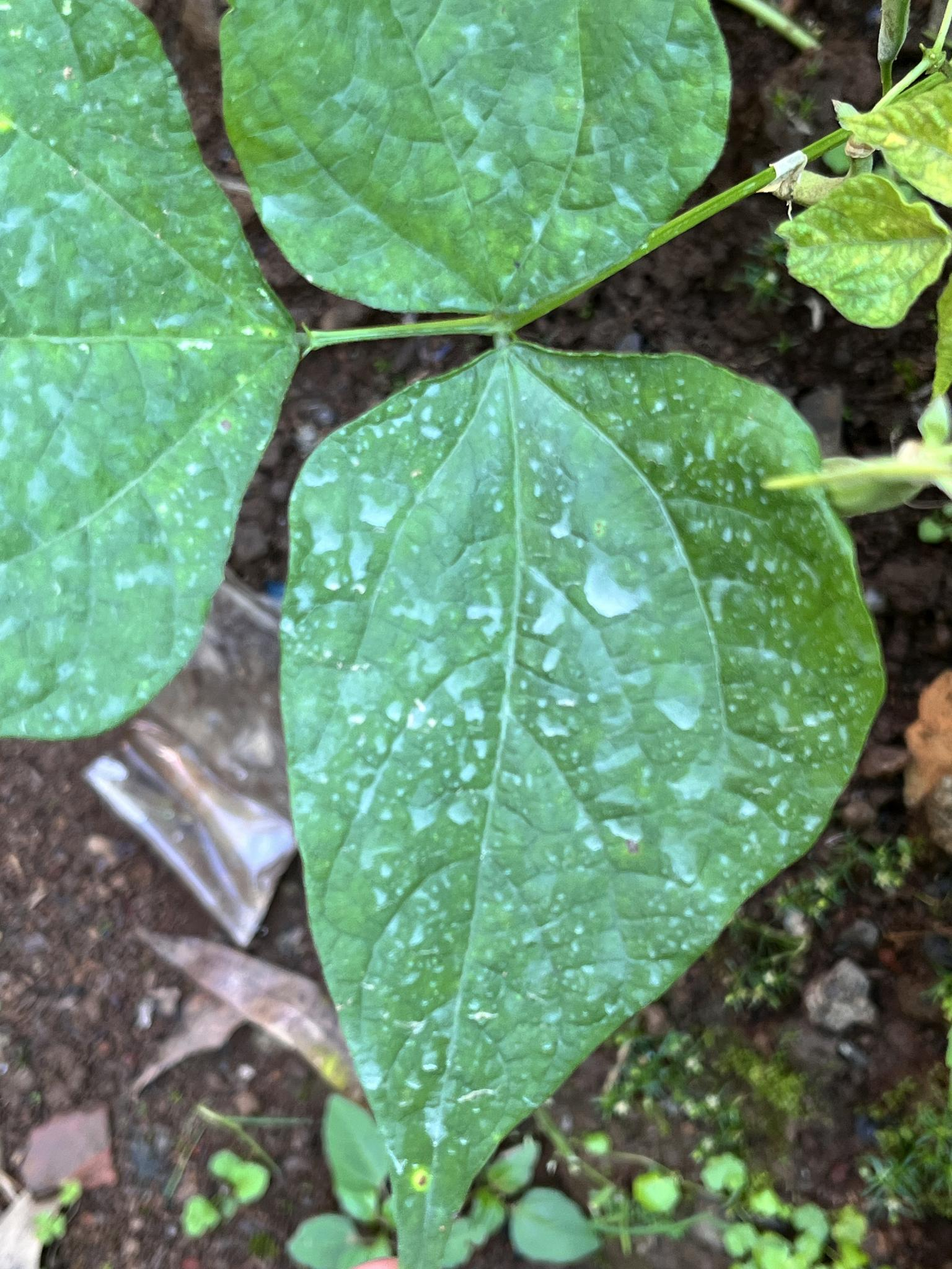embun tepung: (261, 325, 891, 1263), (0, 0, 746, 742)
